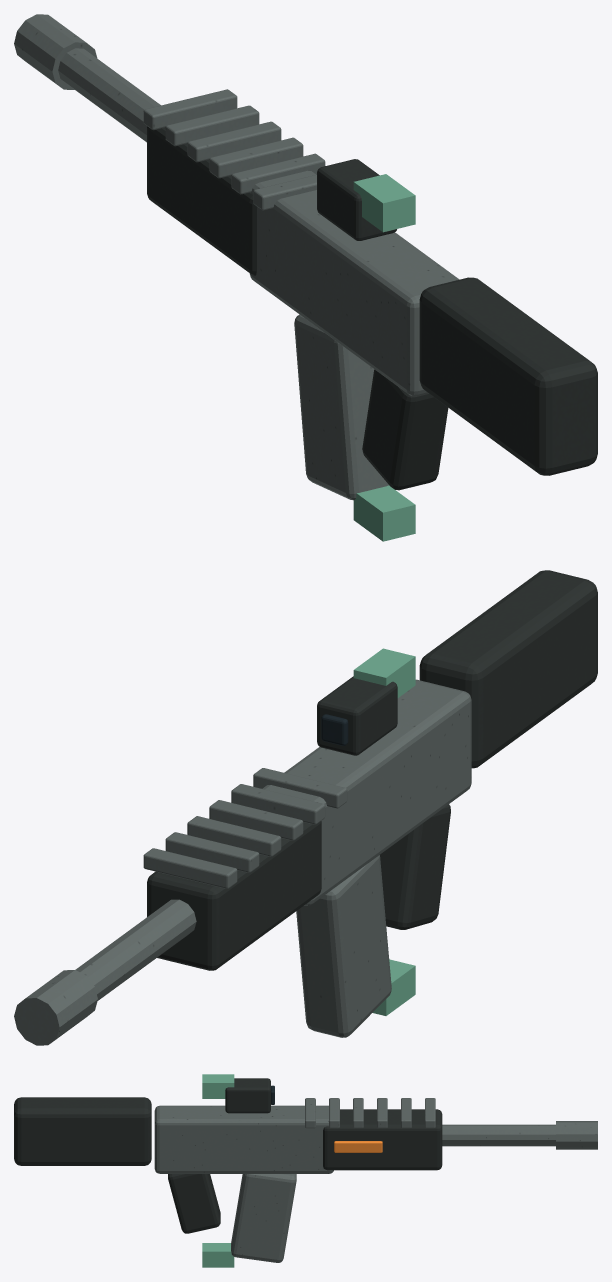
Rendered from rifle_1.glb.
3 views of the same model, one above another, from view 1: azimuth 30°, elevation 25°; view 2: azimuth 150°, elevation 25°; view 3: azimuth 270°, elevation 25° (orthographic). The views are drawn at different scales.
Visible parts, largest first — view 1: Weapon_rifle, GRADE_1_RAIL_0_-1, GRADE_1_RAIL_0_1; view 2: Weapon_rifle, GRADE_1_RAIL_0_1, GRADE_1_RAIL_0_-1; view 3: Weapon_rifle, GRADE_1_RAIL_0_-1, GRADE_1_RAIL_0_1.
Boxes of the visible parts, x1=… form: Weapon_rifle: x1=14, y1=14, x2=597, y2=500; GRADE_1_RAIL_0_-1: x1=353, y1=485, x2=415, y2=541; GRADE_1_RAIL_0_1: x1=353, y1=174, x2=415, y2=232; Weapon_rifle: x1=14, y1=570, x2=597, y2=1045; GRADE_1_RAIL_0_1: x1=353, y1=648, x2=415, y2=697; GRADE_1_RAIL_0_-1: x1=372, y1=959, x2=415, y2=1015; Weapon_rifle: x1=14, y1=1078, x2=597, y2=1262; GRADE_1_RAIL_0_-1: x1=202, y1=1243, x2=234, y2=1267; GRADE_1_RAIL_0_1: x1=202, y1=1074, x2=234, y2=1098.
Bounding box in the file's own units: 0.09 × 0.3401 × 0.975.
5 materials, 4 textured.
